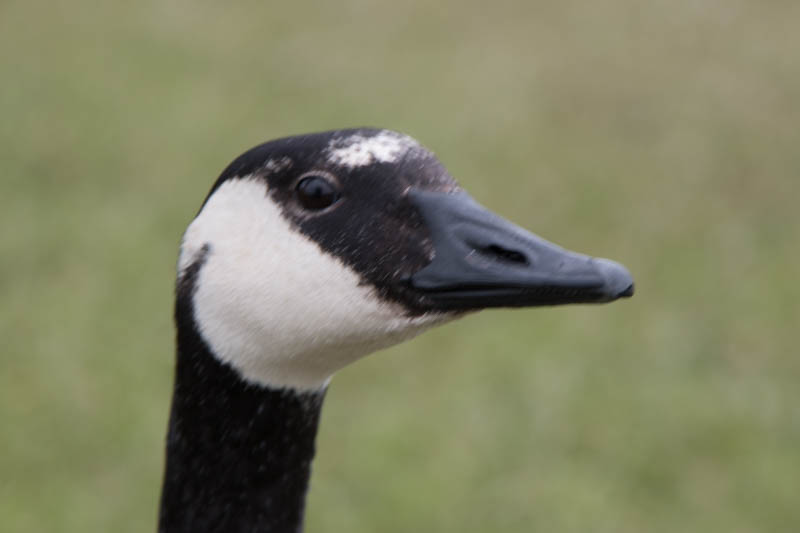goose-head: (175, 127, 634, 391)
